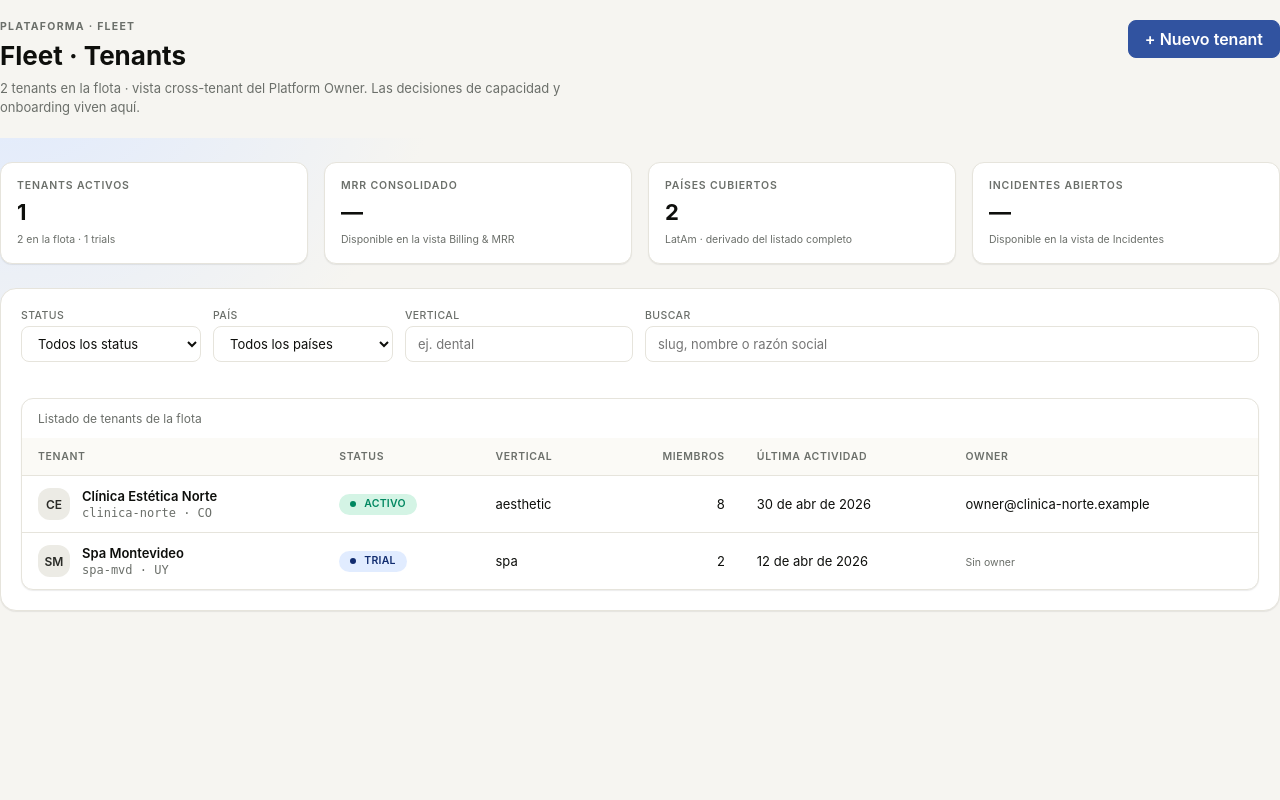
Test: FleetTenants › + Nuevo tenant abre el modal, crear cierra y refresca
Expected: the text "Clínica Estética Norte" is shown, [82, 488, 217, 504]
Click the button with test id "fleet-create-tenant-btn".
click(1204, 39)  # box [1128, 20, 1279, 58]
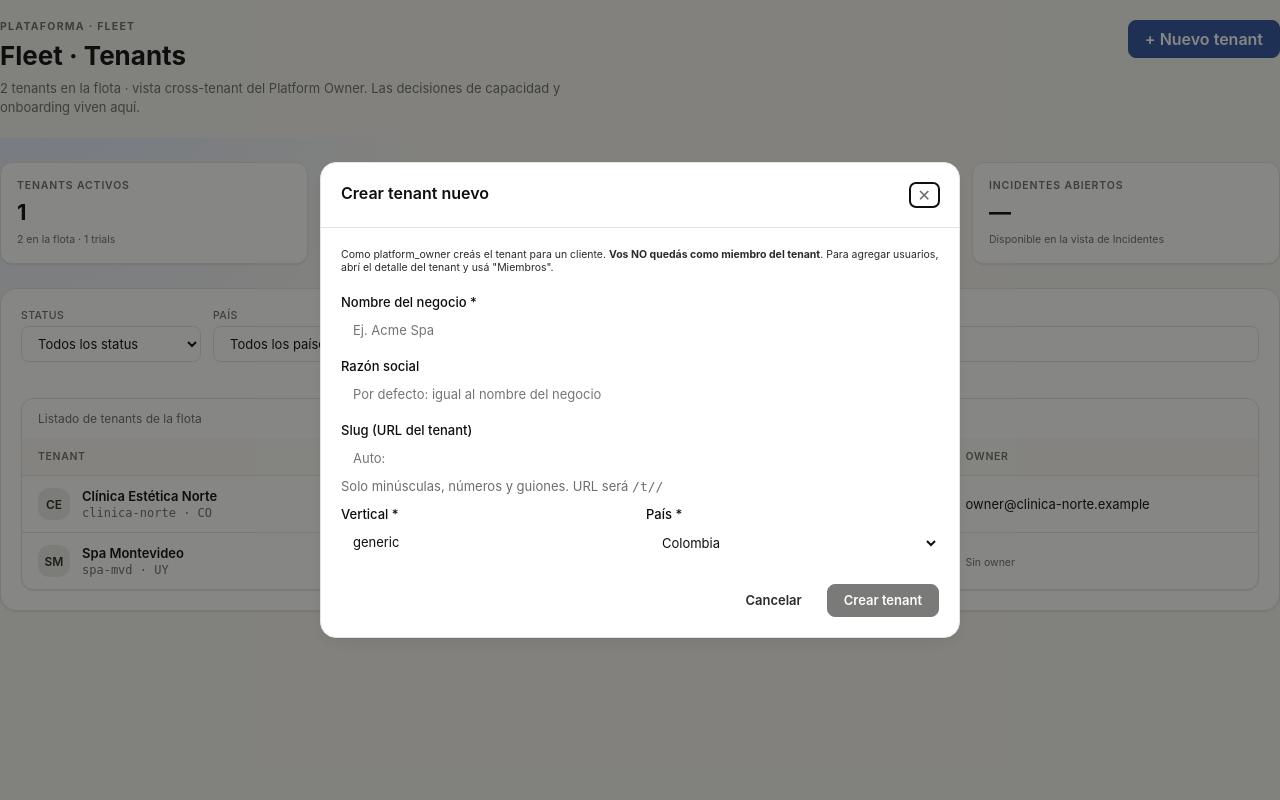
Result: the heading "Crear tenant nuevo" is shown at [341, 183, 489, 203]
Click the button "Cancelar".
click(774, 600)  # box [728, 584, 819, 617]
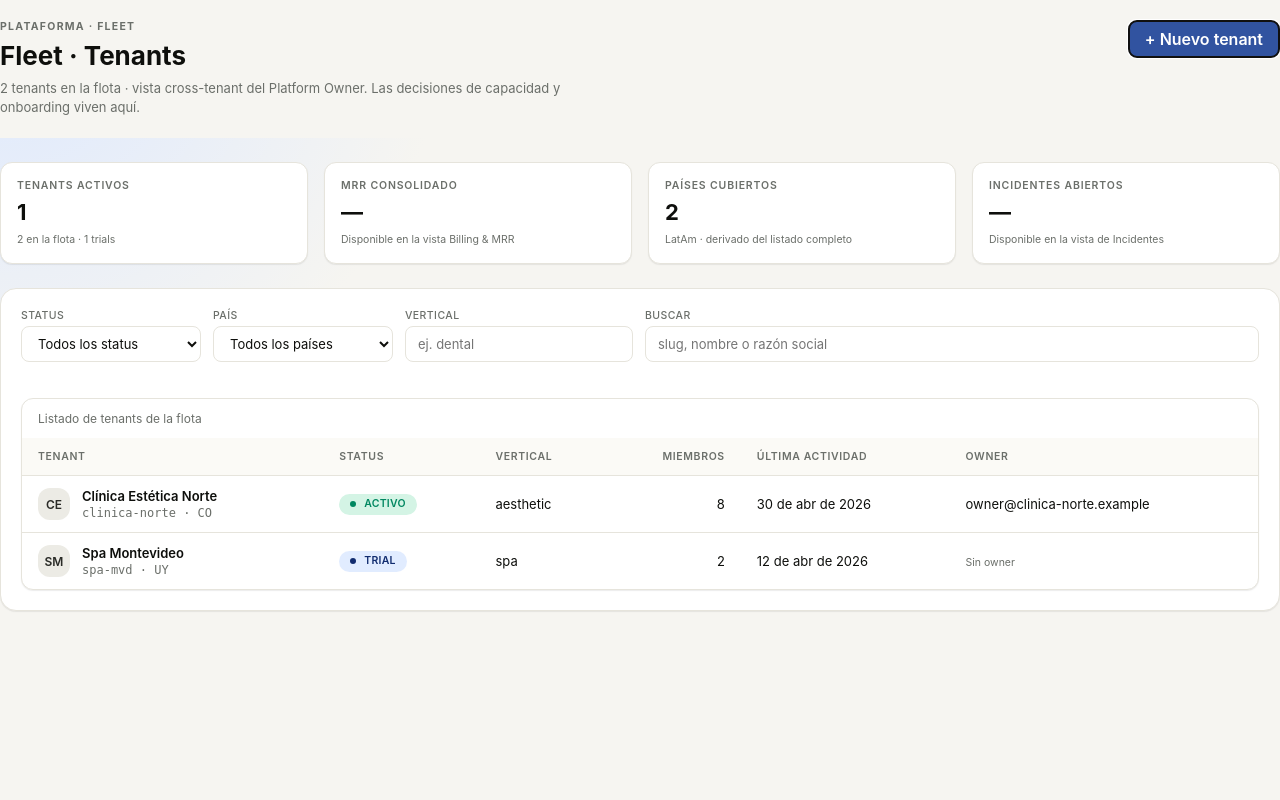
Result: the heading "Crear tenant nuevo" is gone
